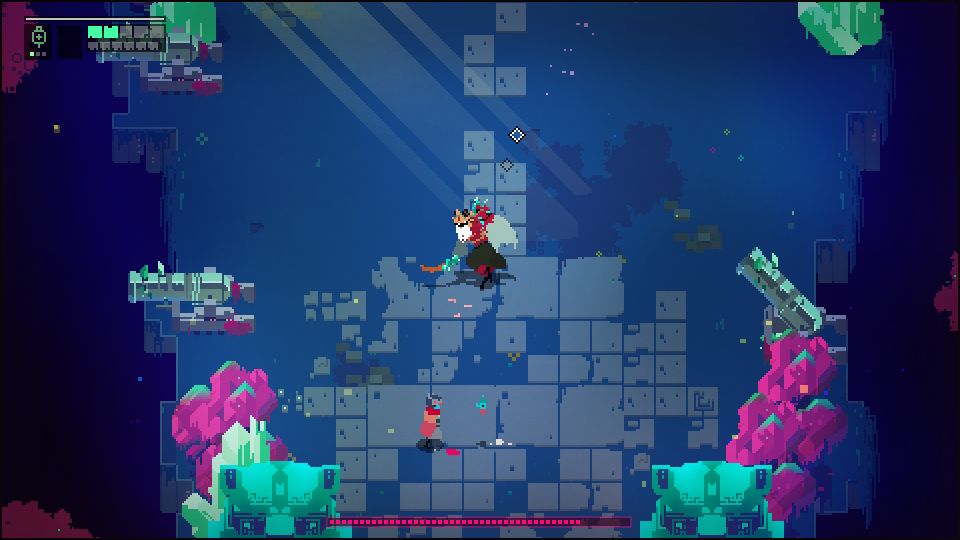hanged_man: (424, 196, 518, 294)
player: (417, 393, 444, 444)
